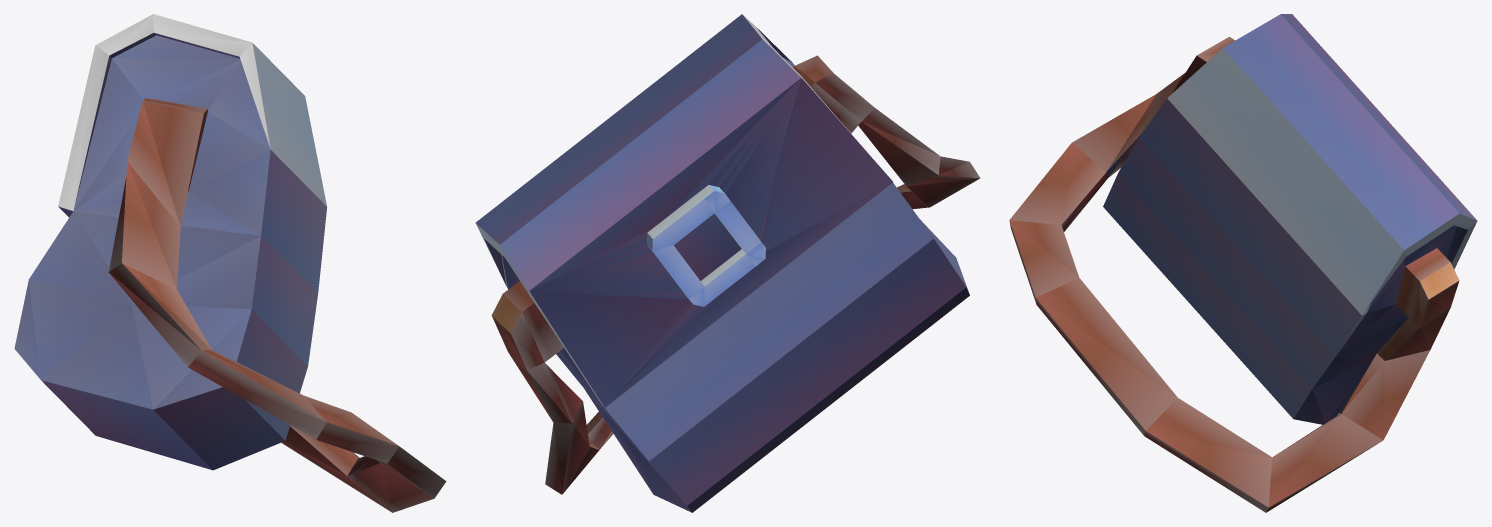
The model's file is bag01.fbx.
3 renders of one model, left to right at view 1: azimuth 30°, elevation 25°; view 2: azimuth 150°, elevation 25°; view 3: azimuth 270°, elevation 25°, orthographic. The views are drawn at different scales.
Visible parts, largest first — view 1: bag01; view 2: bag01; view 3: bag01.
Part boxes in pixels (bbox=[...]): bag01: bbox=[14, 14, 446, 512]; bag01: bbox=[475, 14, 980, 512]; bag01: bbox=[1009, 14, 1477, 512].
Bounding box in the file's own units: 116 × 143 × 147.
